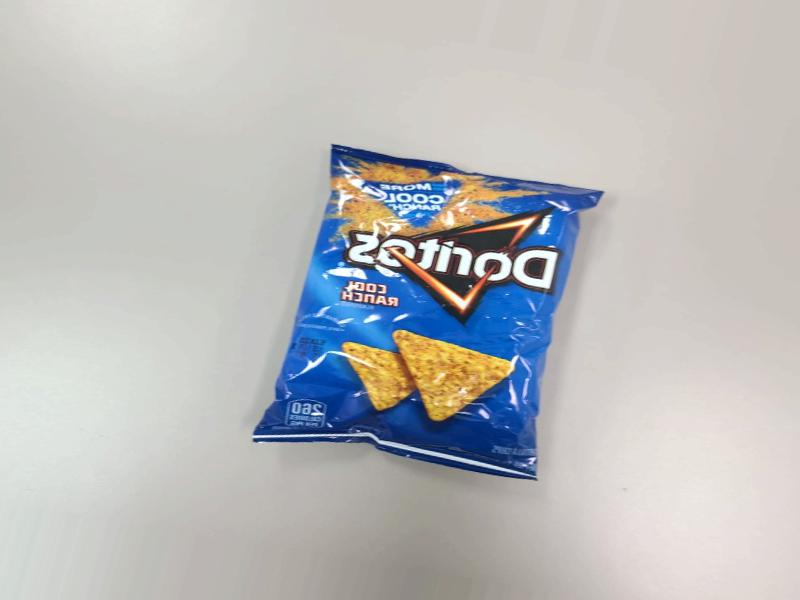doritos: (254, 127, 578, 483)
